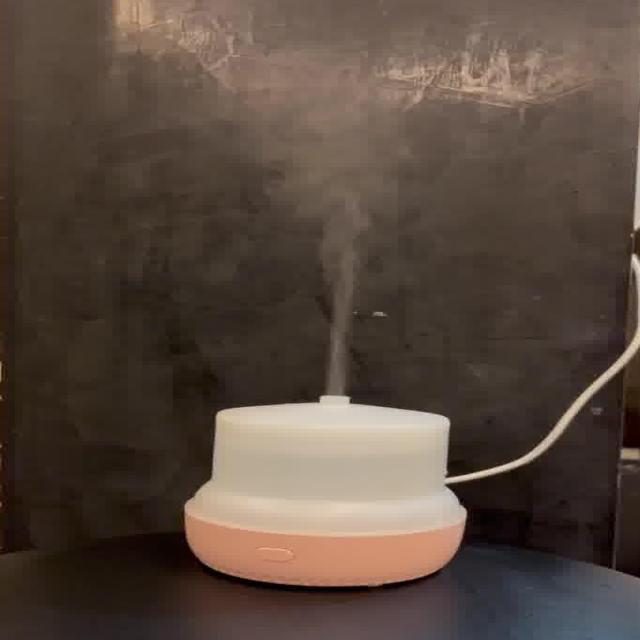fire: (247, 98, 416, 391)
